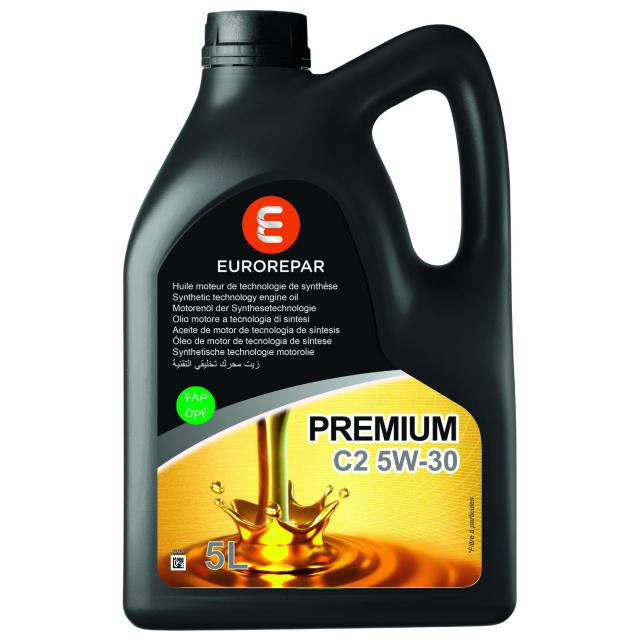motor_oil: (106, 8, 525, 634)
